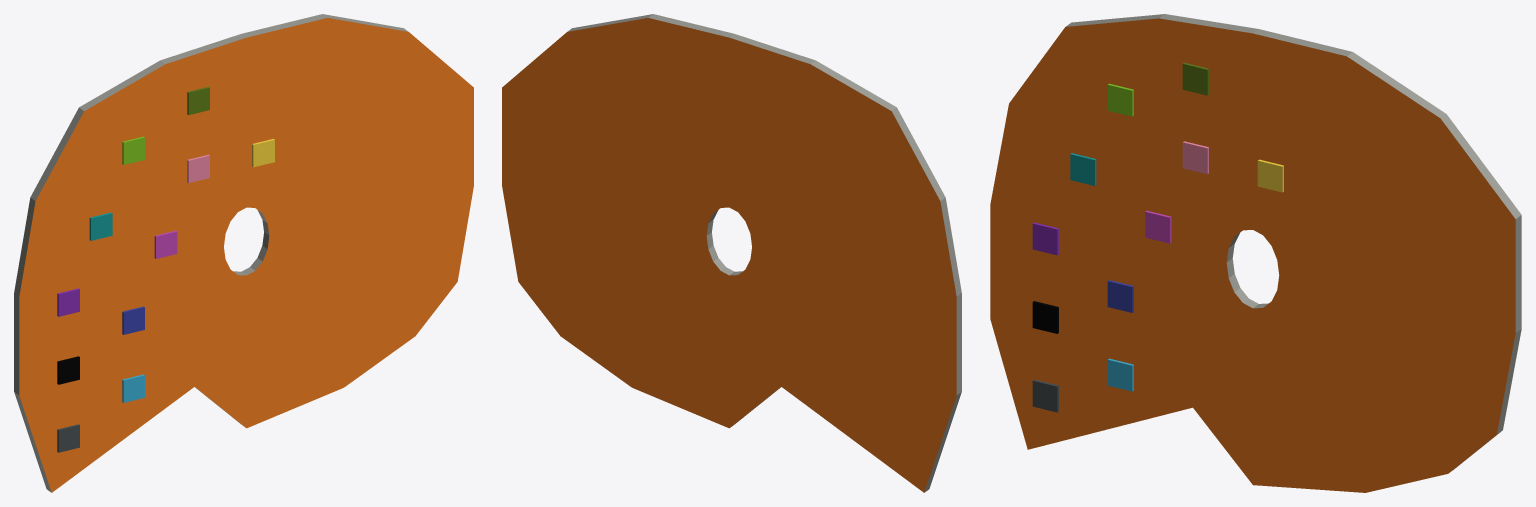
The model's file is item_palette11.obj.
The picture shows the model from 3 angles, left to right: view 1: azimuth 30°, elevation 25°; view 2: azimuth 150°, elevation 25°; view 3: azimuth 330°, elevation 25°; orthographic projection. The views are drawn at different scales.
Visible parts, largest first — view 1: wooden_palette_with_open_thumb_hole_and_grip_notch, native_cumulative_paint_state; view 2: wooden_palette_with_open_thumb_hole_and_grip_notch; view 3: wooden_palette_with_open_thumb_hole_and_grip_notch, native_cumulative_paint_state.
Part boxes in pixels (x1,y1,x2,y2): wooden_palette_with_open_thumb_hole_and_grip_notch: [14, 14, 473, 492]; native_cumulative_paint_state: [57, 86, 274, 452]; wooden_palette_with_open_thumb_hole_and_grip_notch: [502, 14, 961, 492]; wooden_palette_with_open_thumb_hole_and_grip_notch: [990, 14, 1521, 492]; native_cumulative_paint_state: [1032, 62, 1283, 412].
Size of the model in its own units: 0.875 by 0.75 by 0.0219.
